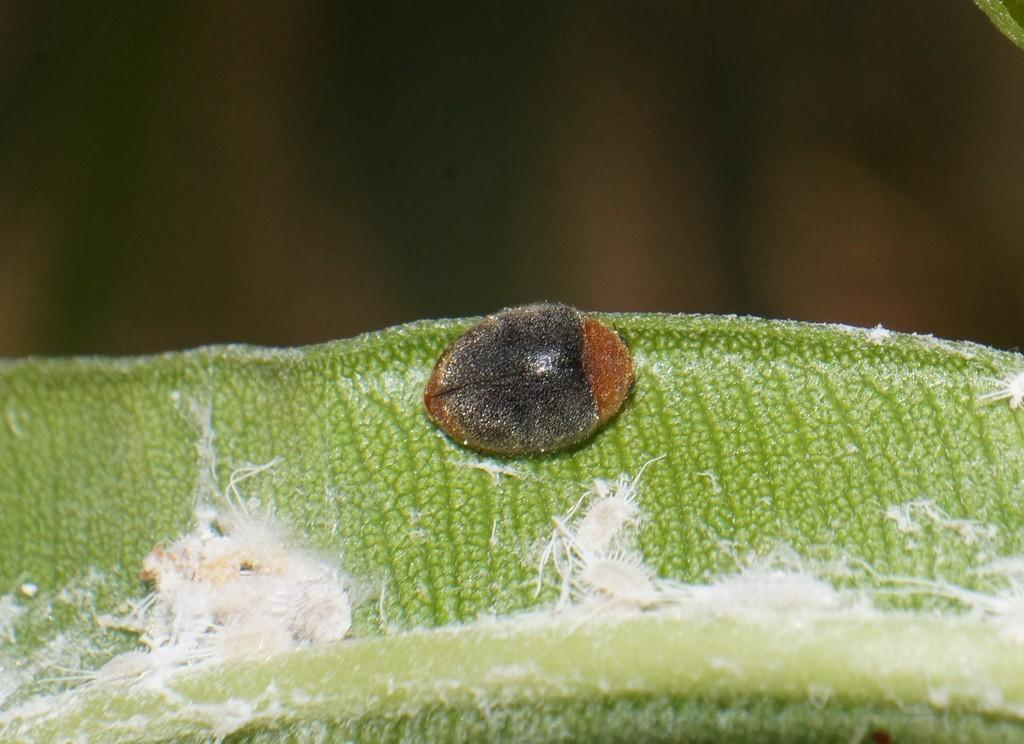ladybug: (423, 301, 639, 463)
